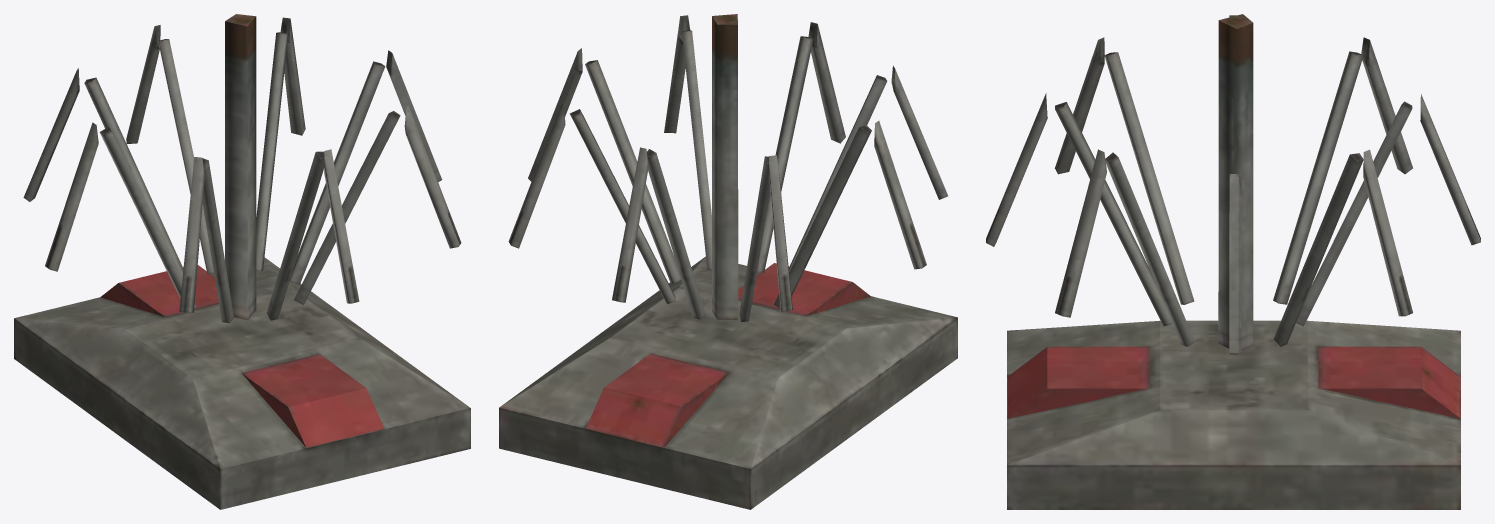
The model's file is treadwell.far.glb.
3 renders of one model, left to right at view 1: azimuth 30°, elevation 25°; view 2: azimuth 150°, elevation 25°; view 3: azimuth 270°, elevation 25°, orthographic. The views are drawn at different scales.
Bounding box in the file's own units: 1.91 × 1.78 × 1.9.
1 material, 1 textured.
